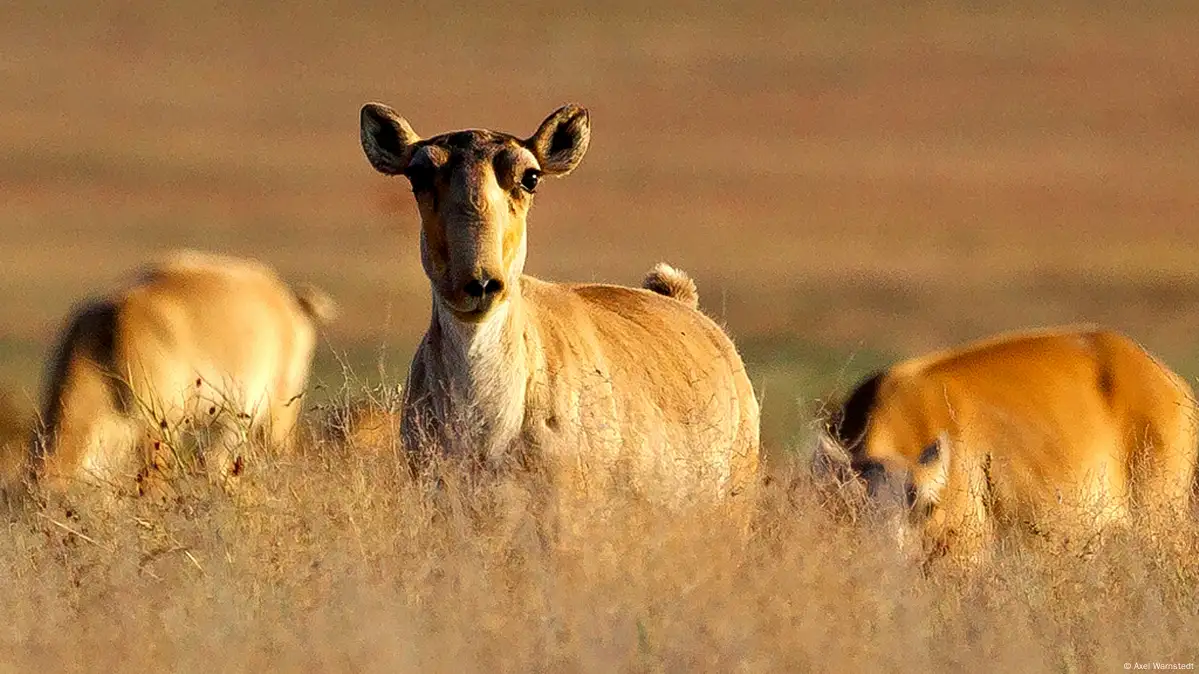saiga: (356, 101, 769, 586)
